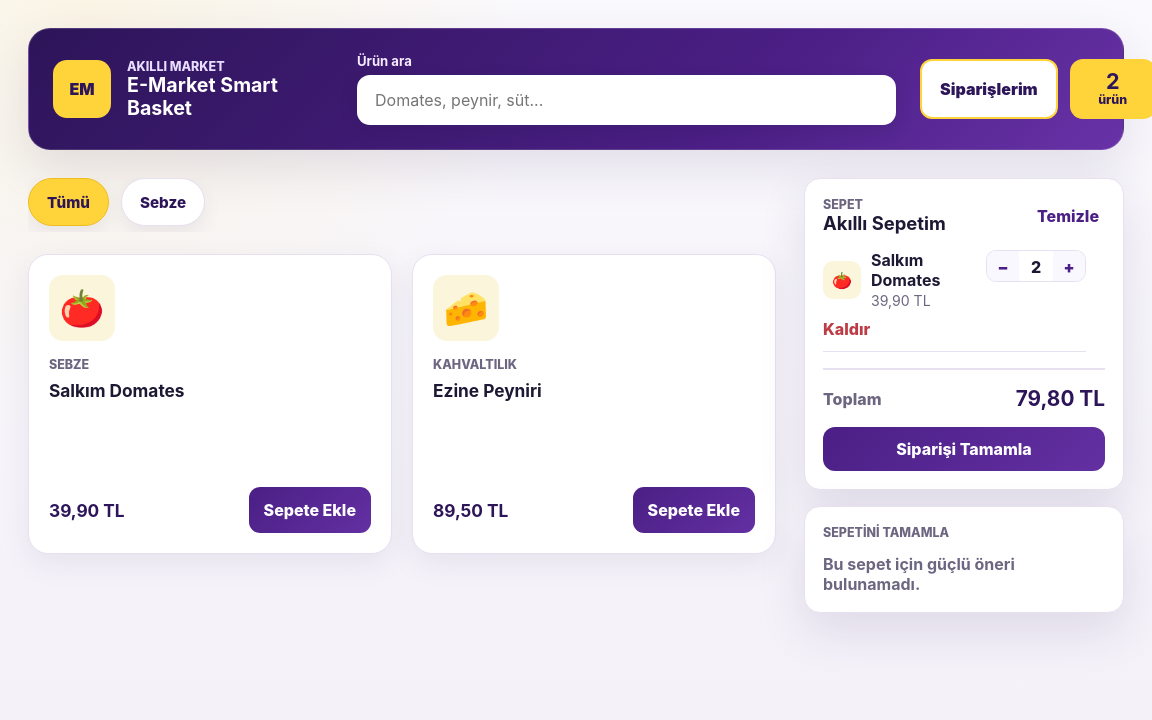
Test: App checkout flow › shows loading and clears the cart after a successful order
Click the button "Siparişi Tamamla": click(964, 449) x1=823 y1=427 x2=1105 y2=471
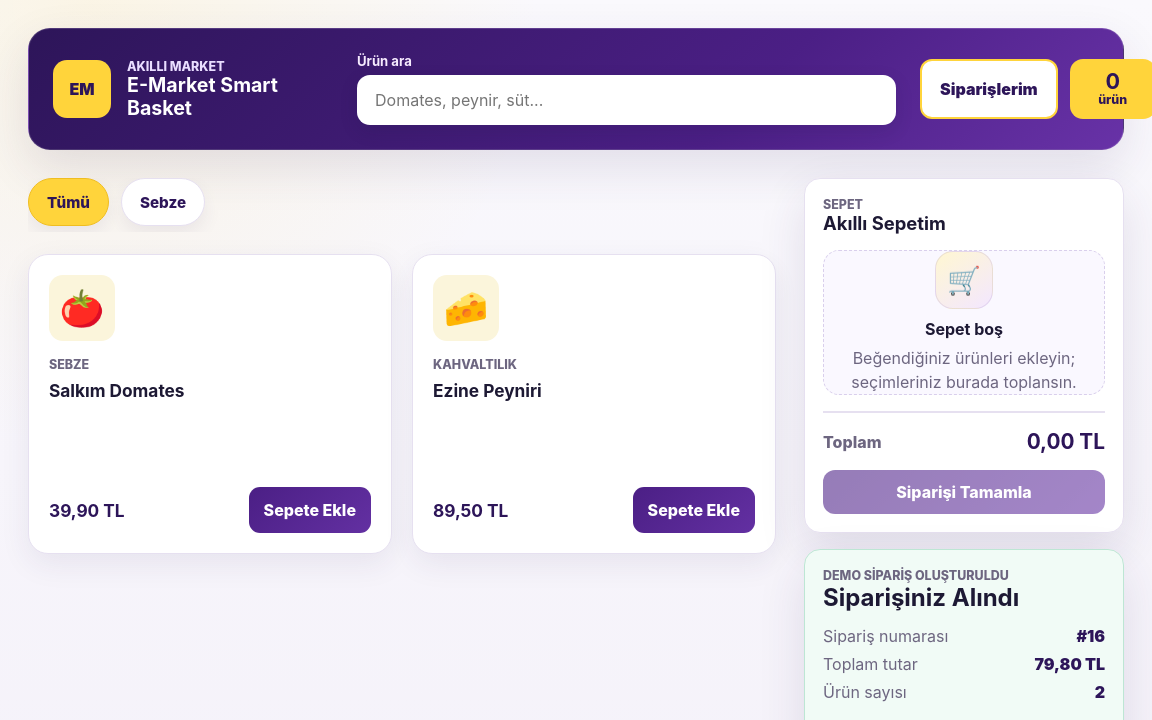
Check: the button "Siparişi Tamamla" is disabled, box x1=823 y1=470 x2=1105 y2=514
Check: the text "Siparişiniz Alındı" is shown, box x1=823 y1=583 x2=1019 y2=612
Check: the text "Sepet boş" is shown, box x1=925 y1=319 x2=1003 y2=339
